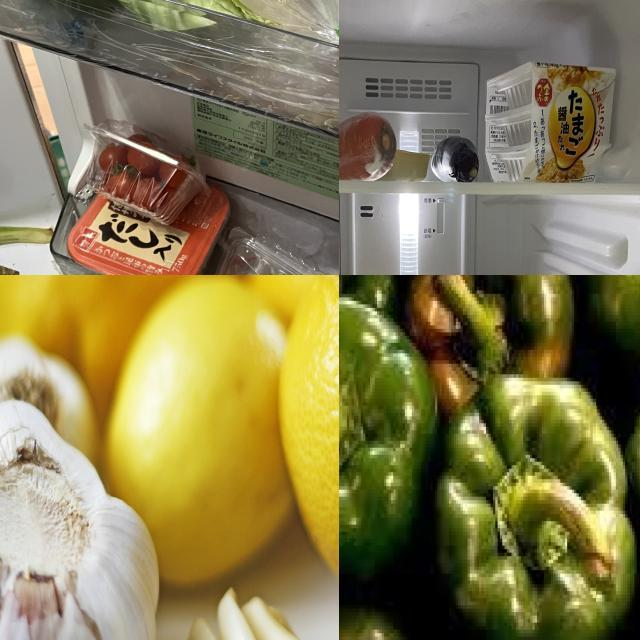bell_pepper: (436, 364, 640, 640), (340, 288, 433, 591)
carrot: (340, 112, 398, 177)
eggplant: (434, 134, 483, 189)
garlic: (1, 416, 165, 640), (175, 580, 335, 640)
